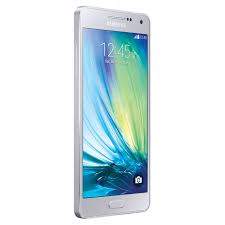samsung: (71, 4, 152, 218)
